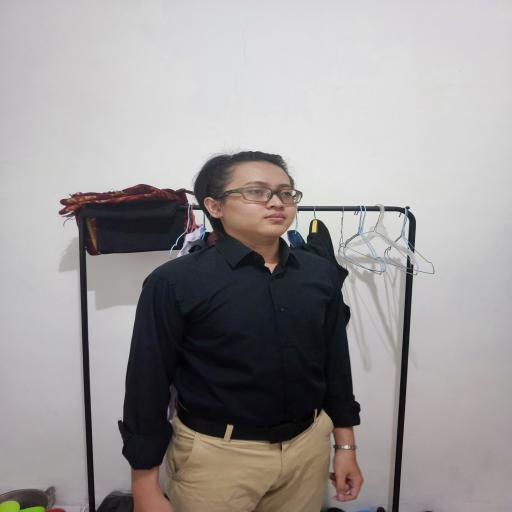celana_salah: (172, 427, 336, 512)
kemeja_salah: (128, 250, 362, 415)
sabuk_ada: (176, 411, 340, 445)
